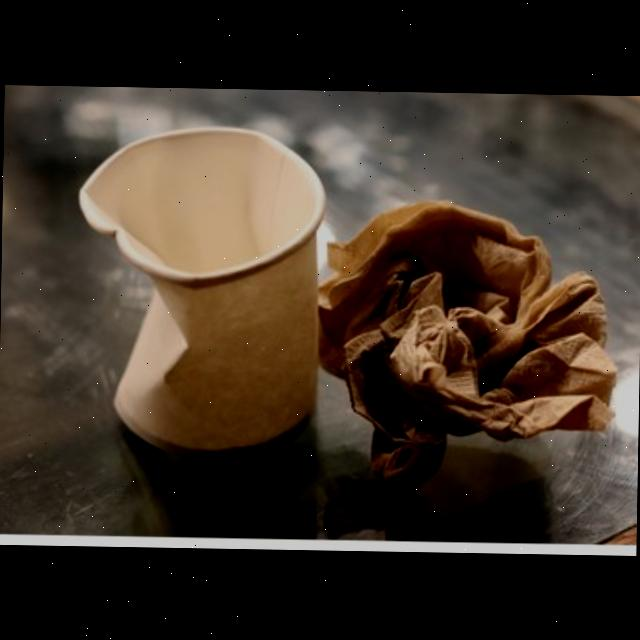trash: (70, 120, 328, 454)
